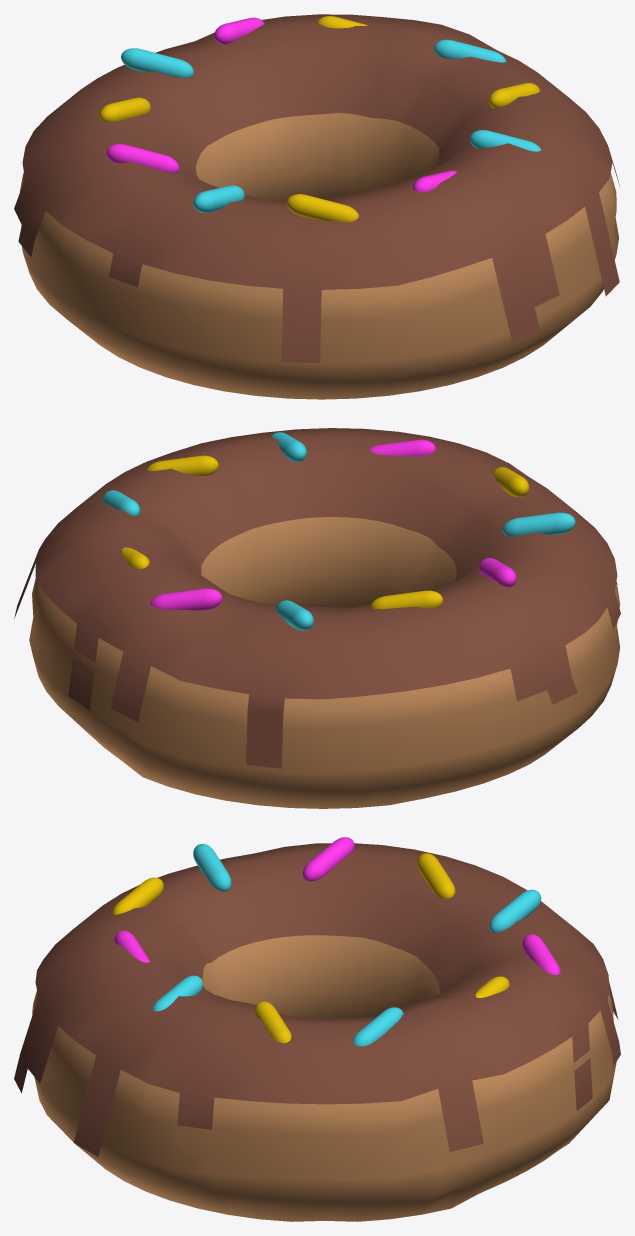
Rendered from donutchocoJ.fbx.
3 renders of one model, top to bottom at view 1: azimuth 30°, elevation 25°; view 2: azimuth 150°, elevation 25°; view 3: azimuth 270°, elevation 25°, orthographic.
Parts seen in each view (by area): view 1: donutcreamJ.001, donutbreadJ.001, Sphere.007, Sphere.005, Sphere.006, Sphere.010, Sphere.003, Sphere.004, Sphere.009, Sphere, Sphere.001; view 2: donutcreamJ.001, donutbreadJ.001, Sphere.003, Sphere, Sphere.004, Sphere.001, Sphere.002, Sphere.007, Sphere.005, Sphere.006, Sphere.009, Sphere.010; view 3: donutcreamJ.001, donutbreadJ.001, Sphere.006, Sphere.007, Sphere.003, Sphere.004, Sphere.005, Sphere.010, Sphere.001, Sphere, Sphere.009, Sphere.002.
Boxes of the visible parts, x1=… form: donutcreamJ.001: x1=14, y1=14, x2=619, y2=362; donutbreadJ.001: x1=20, y1=112, x2=618, y2=399; Sphere.007: x1=121, y1=48, x2=193, y2=78; Sphere.005: x1=286, y1=194, x2=358, y2=222; Sphere.006: x1=106, y1=144, x2=179, y2=172; Sphere.010: x1=434, y1=39, x2=506, y2=62; Sphere.003: x1=193, y1=185, x2=244, y2=212; Sphere.004: x1=99, y1=97, x2=150, y2=121; Sphere.009: x1=470, y1=130, x2=541, y2=151; Sphere: x1=214, y1=17, x2=264, y2=44; Sphere.001: x1=489, y1=83, x2=539, y2=108; donutcreamJ.001: x1=14, y1=428, x2=620, y2=768; donutbreadJ.001: x1=29, y1=517, x2=620, y2=808; Sphere.003: x1=502, y1=512, x2=575, y2=536; Sphere: x1=150, y1=588, x2=222, y2=610; Sphere.004: x1=370, y1=590, x2=442, y2=609; Sphere.001: x1=146, y1=455, x2=218, y2=475; Sphere.002: x1=370, y1=439, x2=435, y2=456; Sphere.007: x1=276, y1=600, x2=313, y2=630; Sphere.005: x1=493, y1=467, x2=529, y2=497; Sphere.006: x1=479, y1=558, x2=516, y2=586; Sphere.009: x1=271, y1=432, x2=306, y2=462; Sphere.010: x1=102, y1=490, x2=140, y2=516; donutcreamJ.001: x1=14, y1=843, x2=620, y2=1156; donutbreadJ.001: x1=32, y1=935, x2=616, y2=1221; Sphere.006: x1=303, y1=837, x2=354, y2=881; Sphere.007: x1=489, y1=889, x2=541, y2=932; Sphere.003: x1=193, y1=843, x2=231, y2=891; Sphere.004: x1=417, y1=853, x2=455, y2=898; Sphere.005: x1=112, y1=877, x2=163, y2=914; Sphere.010: x1=353, y1=1007, x2=403, y2=1046; Sphere.001: x1=254, y1=1001, x2=291, y2=1043; Sphere: x1=522, y1=934, x2=560, y2=974; Sphere.009: x1=152, y1=975, x2=202, y2=1011; Sphere.002: x1=114, y1=930, x2=149, y2=962.
Size of the model in its own units: 152 by 54.72 by 154.
